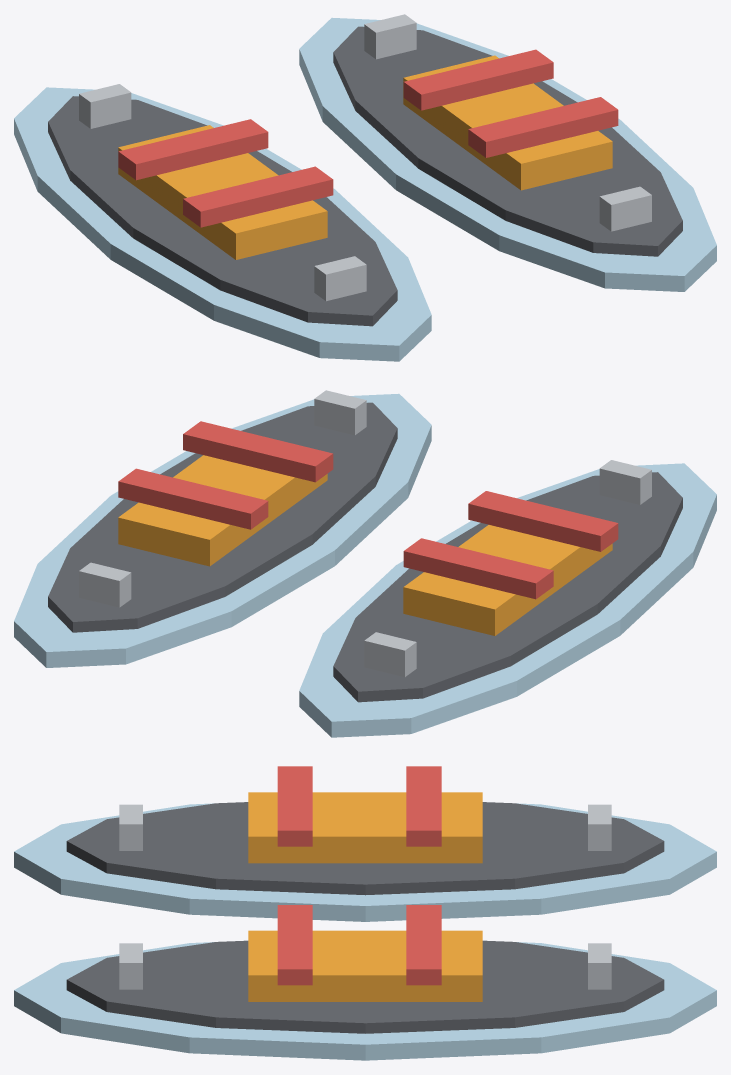
Rendered from ski-resort-and-snow-park-snowshoes-7c77b21b__26020.glb.
The picture shows the model from 3 angles, top to bottom: view 1: azimuth 30°, elevation 25°; view 2: azimuth 150°, elevation 25°; view 3: azimuth 270°, elevation 25°; orthographic projection.
Visible parts, largest first — view 1: snowshoes; view 2: snowshoes; view 3: snowshoes.
Part boxes in pixels (x1,y1,x2,y2): snowshoes: [14, 14, 716, 361]; snowshoes: [14, 390, 716, 737]; snowshoes: [14, 766, 716, 1060].
Size of the model in its own units: 0.5 by 0.065 by 0.6.
